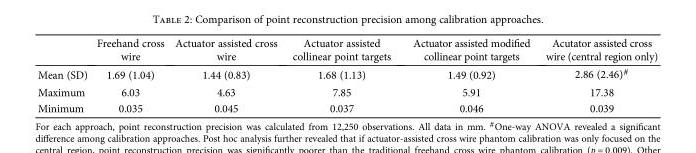table: (36, 36, 657, 114)
table column: (401, 36, 537, 114), (537, 36, 657, 114), (284, 36, 401, 114), (168, 36, 284, 114), (91, 36, 168, 114), (36, 36, 91, 114)
table column header: (36, 36, 657, 63)
table row: (36, 36, 657, 63), (36, 63, 657, 83), (36, 83, 657, 99), (36, 99, 657, 114)
